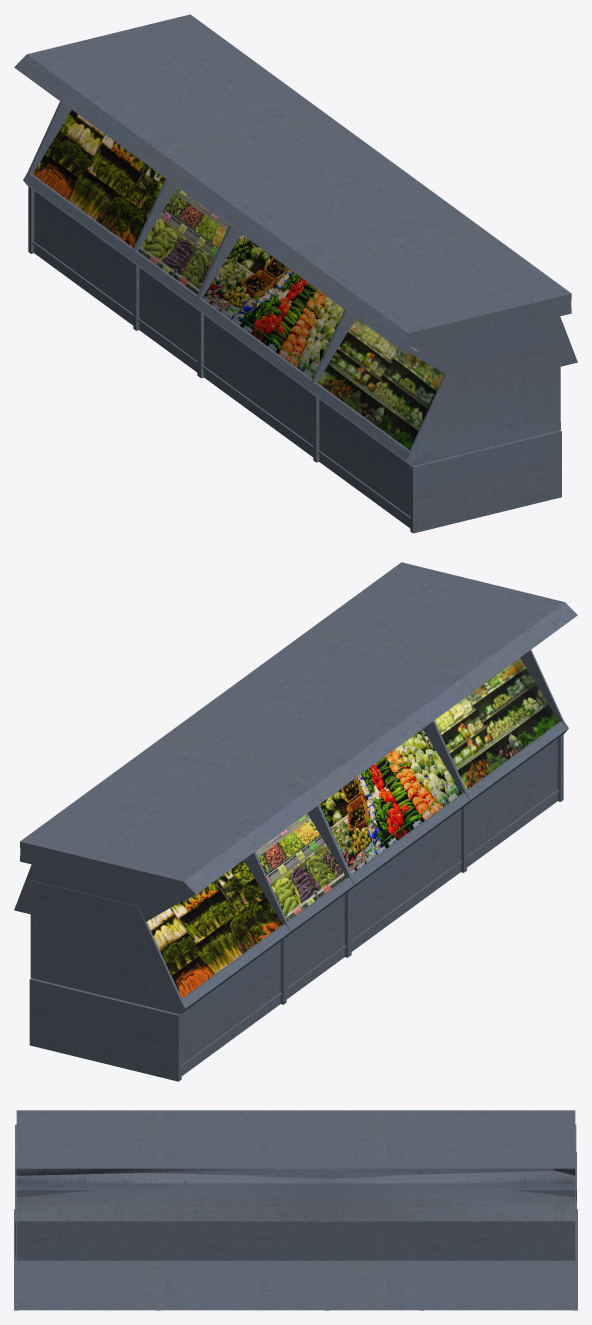
Rendered from SM_Counter_Veget.FBX.
3 renders of one model, top to bottom at view 1: azimuth 30°, elevation 25°; view 2: azimuth 150°, elevation 25°; view 3: azimuth 270°, elevation 25°, orthographic. The views are drawn at different scales.
Parts seen in each view (by area): view 1: SM_Counter_Veget; view 2: SM_Counter_Veget; view 3: SM_Counter_Veget.
Boxes of the visible parts, bbox=[...] form: SM_Counter_Veget: bbox=[14, 14, 577, 533]; SM_Counter_Veget: bbox=[14, 562, 577, 1081]; SM_Counter_Veget: bbox=[14, 1110, 577, 1310].
Size of the model in its own units: 175 by 184 by 642.
